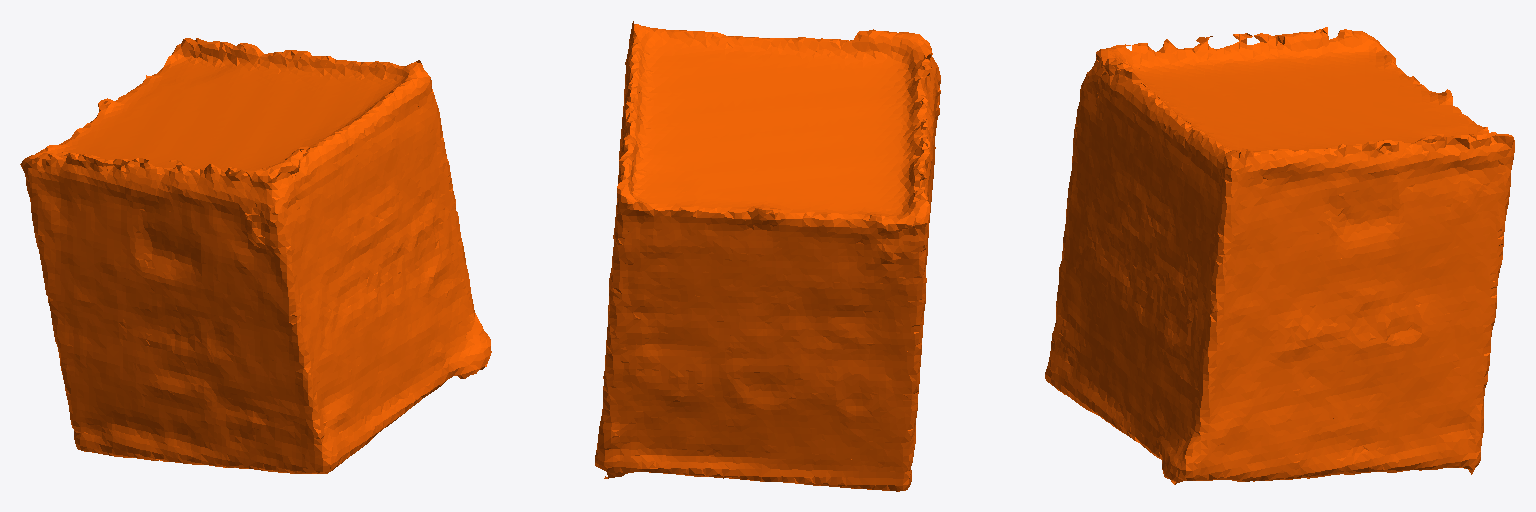
robot.urdf — largebox.urdf:
<?xml version="1.0" ?>
<robot name="largebox.urdf">
  <dynamics damping="0.5" friction="0.9"/>
  <link name="baseLink">
    <contact>
      <lateral_friction value="0.9"/>
      <rolling_friction value="0.5"/>
      <stiffness value="30000"/>
      <damping value="1000"/>
    </contact>
    <visual>
      <origin rpy="0 0 0" xyz="0 0 0"/>
      <geometry>
        <mesh filename="largebox.obj" scale="1.0 1.0 1.0"/>
      </geometry>
       <material name="mat">
        <color rgba="1.0 0.423529411765 0.0392156862745 1.0"/>
      </material>
    </visual>
    <collision>
      <origin rpy="0 0 0" xyz="0 0 0"/>
      <geometry>
	 	<mesh filename="largebox.obj" scale="1.0 1.0 1.0"/>
      </geometry>
    </collision>
  </link>
</robot>

--- Render facts (derived) ---
Views: 3 orthographic renders of the robot side by side, from view 1: azimuth 30°, elevation 25°; view 2: azimuth 150°, elevation 25°; view 3: azimuth 270°, elevation 25°.
Robot: largebox.urdf — 1 links, 0 joints (none); root link baseLink; default pose: every joint at zero.
Visible links, largest first — view 1: baseLink; view 2: baseLink; view 3: baseLink.
Link boxes in pixels (box(x1,y1,x2,y2)): baseLink: box(20, 38, 491, 473); baseLink: box(595, 21, 940, 491); baseLink: box(1045, 27, 1514, 484).
Bounding box of the posed robot: 0.4692 × 0.4569 × 0.4062 m (x, y, z).
1 mesh visuals loaded from 1 distinct referenced files (1 OBJ).